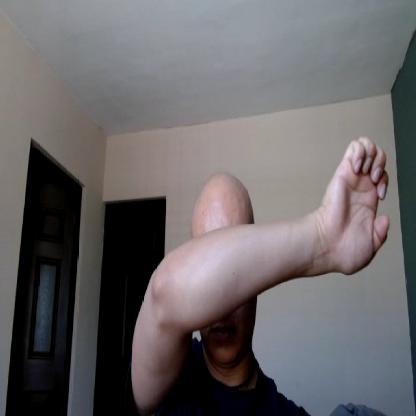E: (324, 137, 390, 277)
